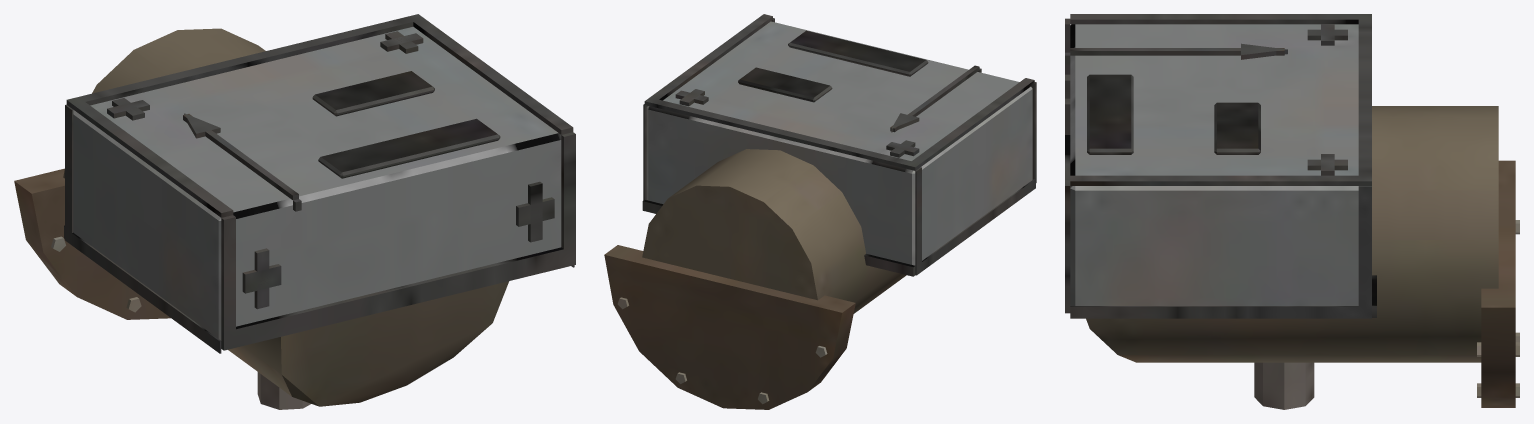
The model's file is overflow-valve.glb.
3 views of the same model, side by side, from view 1: azimuth 30°, elevation 25°; view 2: azimuth 150°, elevation 25°; view 3: azimuth 270°, elevation 25° (orthographic). The views are drawn at different scales.
Parts seen in each view (by area): view 1: body; view 2: body; view 3: body.
Boxes of the visible parts, left/top/right/bottom form: body: left=14, top=14, right=575, bottom=409; body: left=604, top=14, right=1036, bottom=409; body: left=1065, top=14, right=1519, bottom=409.
Size of the model in its own units: 0.932 by 0.776 by 1.06.
Materials: 1 (1 with a texture image).
